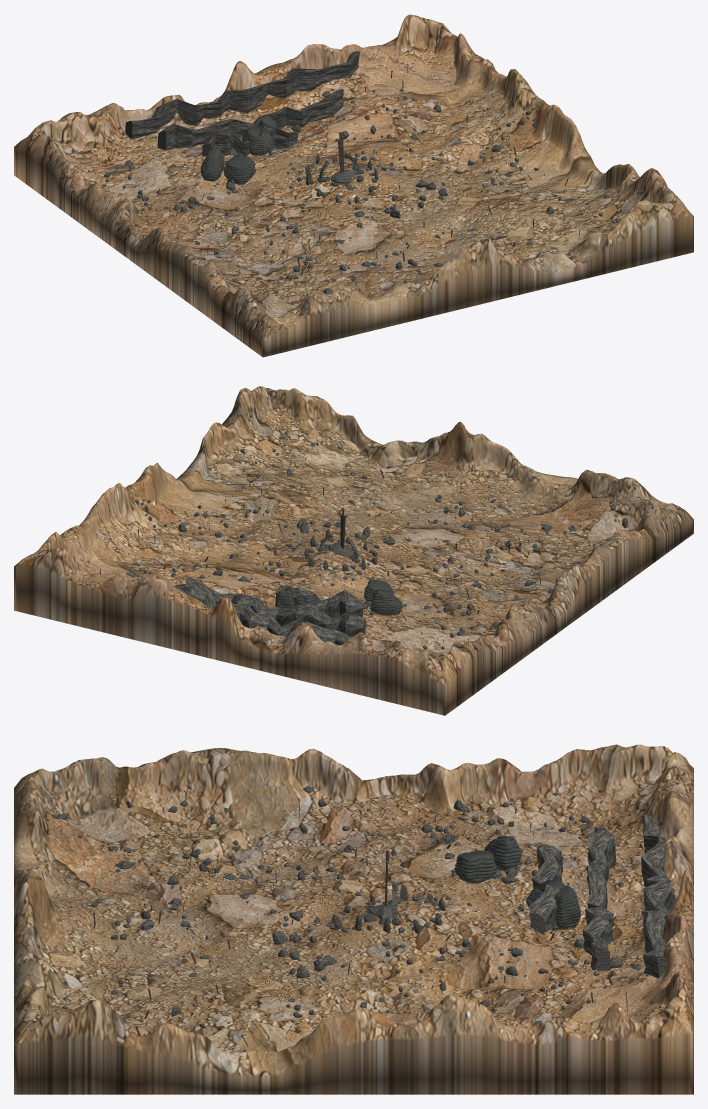
File: world007_LOD1.fbx
The picture shows the model from 3 angles, top to bottom: view 1: azimuth 30°, elevation 25°; view 2: azimuth 150°, elevation 25°; view 3: azimuth 270°, elevation 25°; orthographic projection. The views are drawn at different scales.
Visible parts, largest first — view 1: LODMesh_0306, LODMesh_0307, LODMesh_0304, LODMesh_0305, LODMesh_0062, LODMesh_0370, LODMesh_0390, LODMesh_0387, LODMesh_0376, LODMesh_0382, LODMesh_0377, LODMesh_0371 (+30 smaller); view 2: LODMesh_0305, LODMesh_0307, LODMesh_0306, LODMesh_0304, LODMesh_0374, LODMesh_0388, LODMesh_0381, LODMesh_0369, LODMesh_0387, LODMesh_0389, LODMesh_0393, LODMesh_0371 (+26 smaller); view 3: LODMesh_0304, LODMesh_0307, LODMesh_0306, LODMesh_0305, LODMesh_0383, LODMesh_0364, LODMesh_0363, LODMesh_0375, LODMesh_0388, LODMesh_0390, LODMesh_0387, LODMesh_0376 (+32 smaller).
Part boxes in pixels (x1,y1,x2,y2): LODMesh_0306: (263,200,693,357); LODMesh_0307: (14,131,269,357); LODMesh_0304: (434,23,691,213); LODMesh_0305: (28,14,442,147); LODMesh_0062: (125,51,360,139); LODMesh_0370: (212,214,322,272); LODMesh_0390: (343,92,455,145); LODMesh_0387: (467,191,580,244); LODMesh_0376: (283,192,395,252); LODMesh_0382: (354,178,466,230); LODMesh_0377: (242,160,353,214); LODMesh_0371: (170,184,281,238); LODMesh_0305: (14,547,444,715); LODMesh_0307: (438,503,693,715); LODMesh_0306: (267,388,669,527); LODMesh_0304: (35,386,273,563); LODMesh_0374: (436,464,529,521); LODMesh_0388: (210,488,323,536); LODMesh_0381: (324,481,435,527); LODMesh_0369: (468,522,580,570); LODMesh_0387: (251,460,364,509); LODMesh_0389: (169,521,279,564); LODMesh_0393: (205,433,292,488); LODMesh_0371: (393,573,496,620); LODMesh_0304: (14,993,693,1094); LODMesh_0307: (33,744,672,811); LODMesh_0306: (14,772,74,1044); LODMesh_0305: (636,752,693,1033); LODMesh_0383: (352,908,468,977); LODMesh_0364: (239,777,355,847); LODMesh_0363: (126,786,241,844); LODMesh_0375: (126,886,242,941); LODMesh_0388: (239,972,355,1029); LODMesh_0390: (466,964,582,1022); LODMesh_0387: (126,979,242,1025); LODMesh_0376: (238,879,354,932).
Bounding box in the file's own units: 60000 × 9703 × 60000.
